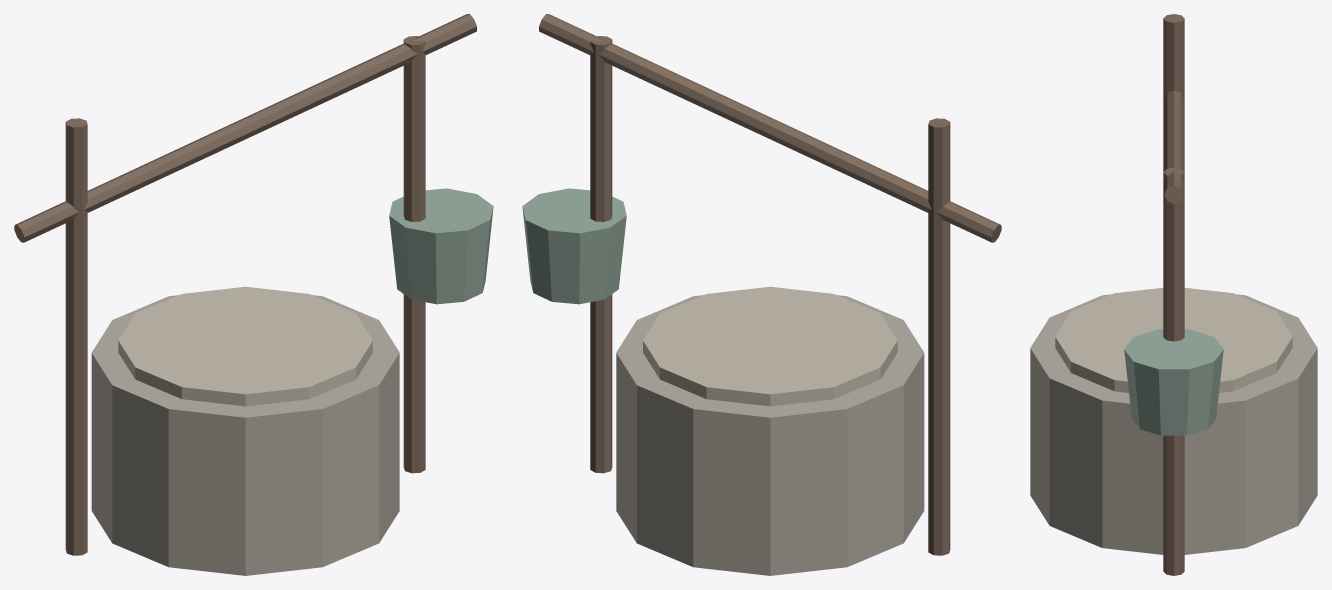
File: well.glb
3 views of the same model, side by side, from view 1: azimuth 30°, elevation 25°; view 2: azimuth 150°, elevation 25°; view 3: azimuth 270°, elevation 25° (orthographic). The views are drawn at different scales.
Visible parts, largest first — view 1: well-wall, well-lip, lever, post-0.95, bucket, post0.95; view 2: well-wall, well-lip, lever, post-0.95, bucket, post0.95; view 3: well-wall, well-lip, bucket, post0.95, lever, post-0.95.
Part boxes in pixels (x1,y1,x2,y2): well-wall: (91,295,399,575); well-lip: (118,286,372,406); lever: (14,14,476,242); post-0.95: (65,118,87,555); bucket: (389,188,493,304); post0.95: (403,36,425,473); well-wall: (616,295,924,575); well-lip: (643,286,897,406); lever: (539,14,1001,242); post-0.95: (928,118,950,555); bucket: (522,188,626,304); post0.95: (590,36,612,473); well-wall: (1030,294,1317,554); well-lip: (1055,287,1292,392); bucket: (1124,329,1223,435); post0.95: (1163,168,1184,575); lever: (1164,90,1183,203); post-0.95: (1163,14,1184,171).
Bounding box in the file's own units: 2.63 × 2.37 × 1.5.
